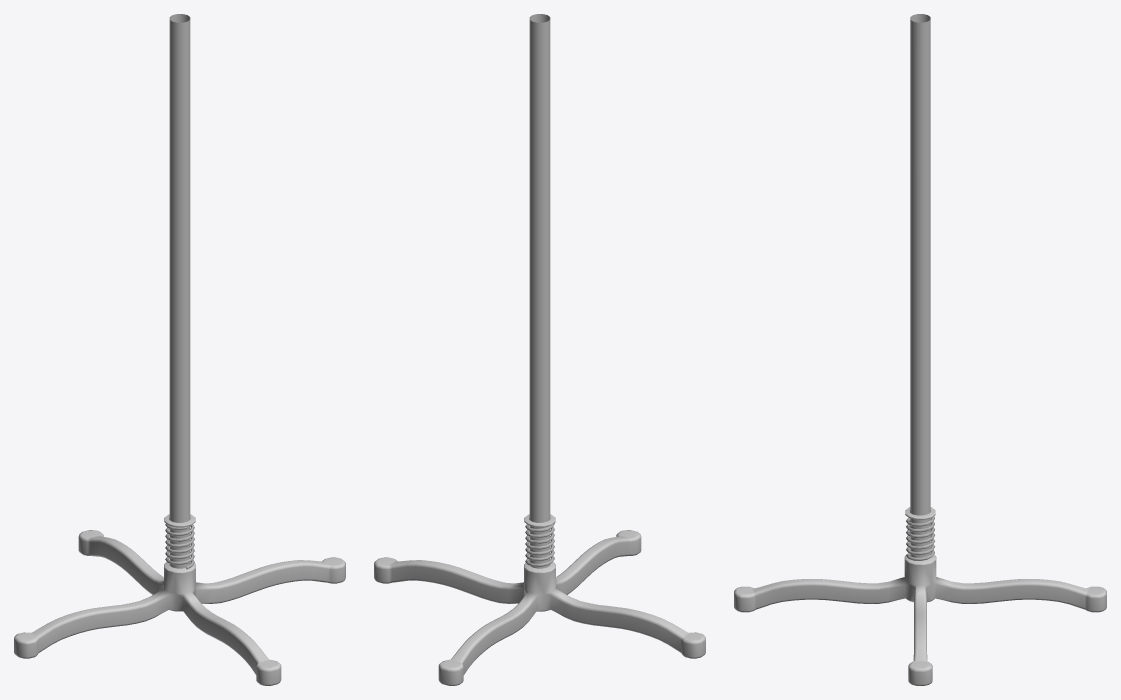
Rendered from SM_Rack_03a.fbx.
3 renders of one model, left to right at view 1: azimuth 30°, elevation 25°; view 2: azimuth 150°, elevation 25°; view 3: azimuth 270°, elevation 25°, orthographic.
Parts seen in each view (by area): view 1: SM_Rack_03a_LOD0; view 2: SM_Rack_03a_LOD0; view 3: SM_Rack_03a_LOD0.
Part boxes in pixels (x1,y1,x2,y2): SM_Rack_03a_LOD0: [14, 14, 345, 685]; SM_Rack_03a_LOD0: [374, 14, 705, 685]; SM_Rack_03a_LOD0: [734, 14, 1106, 685].
Size of the model in its own units: 50.73 by 50.73 by 88.56.
